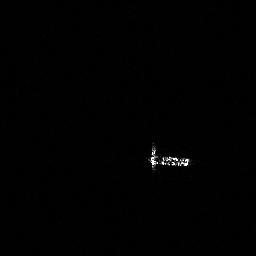ship: (151, 154, 188, 168)
